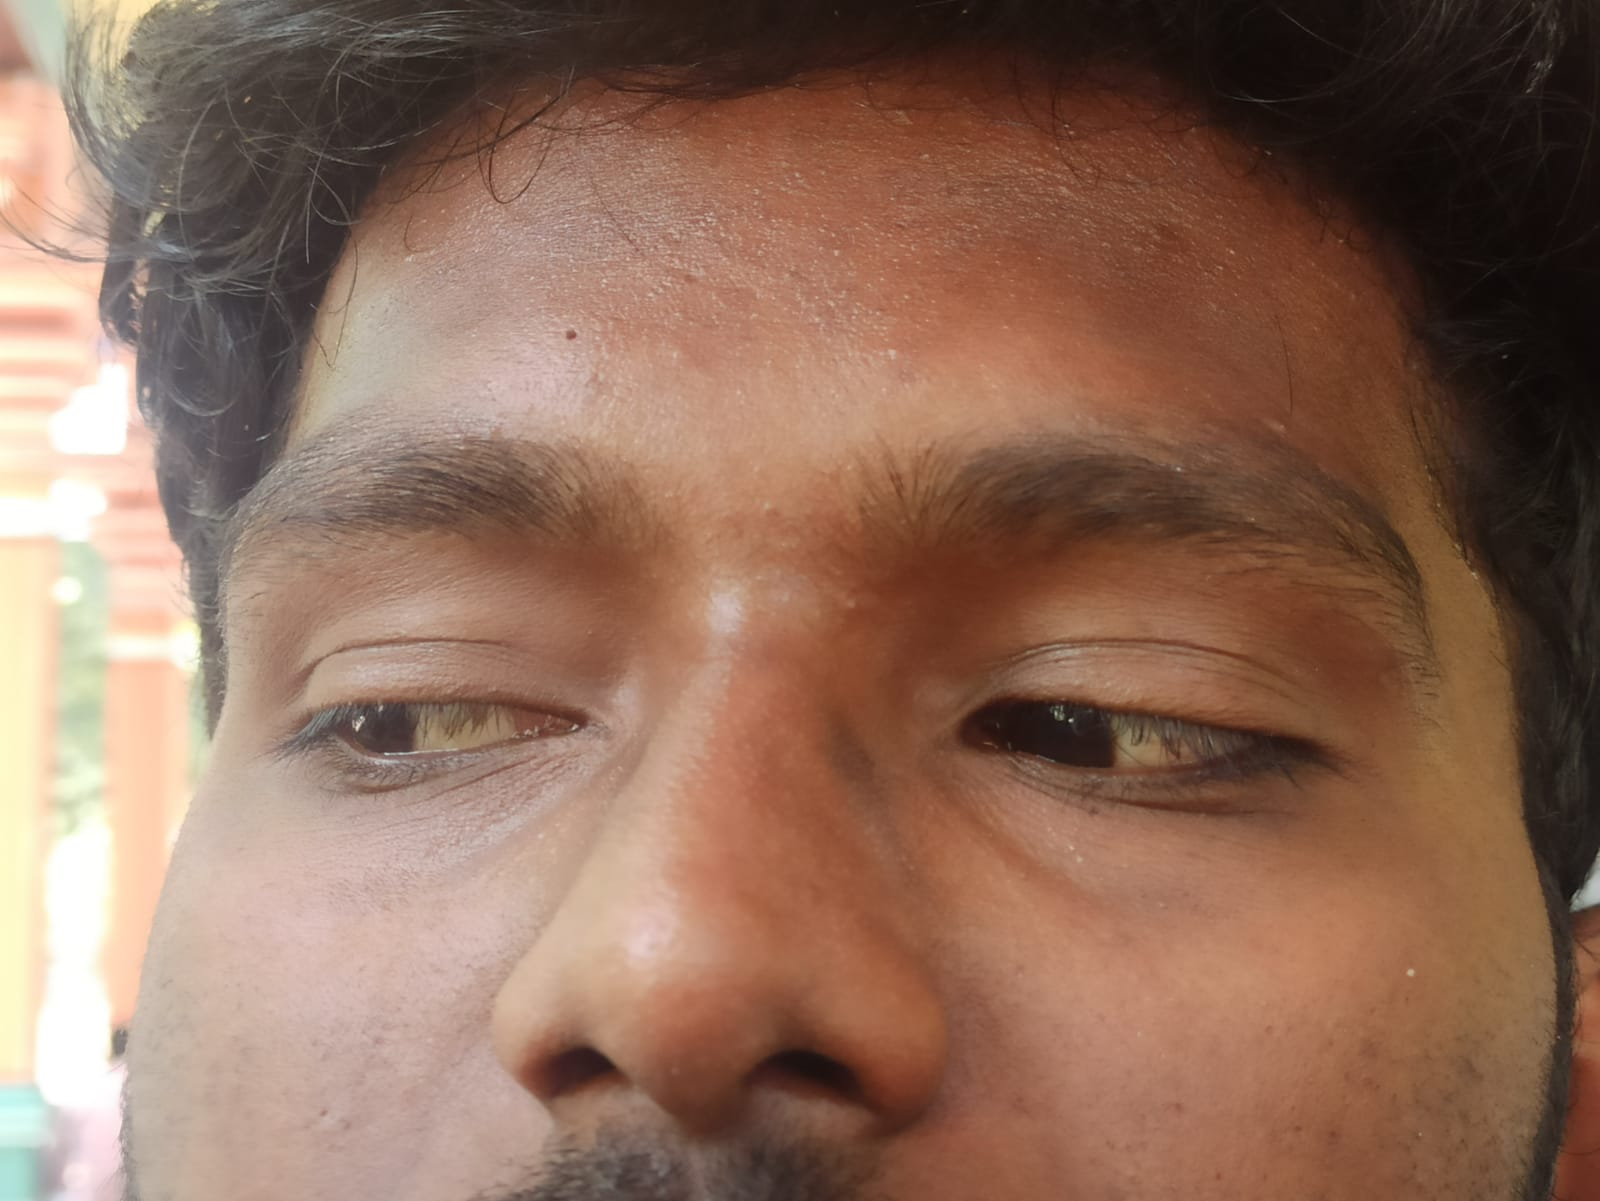EYE RIGHT: (824, 455, 1422, 929), (134, 455, 722, 918)
